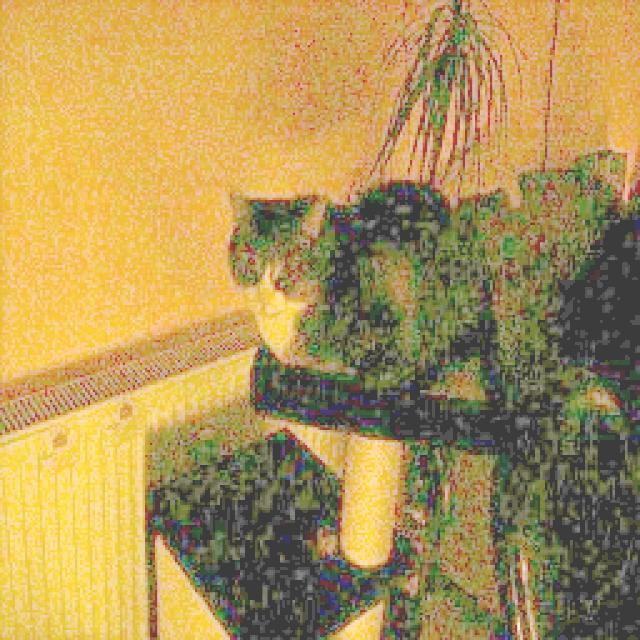cat: (226, 186, 389, 381)
